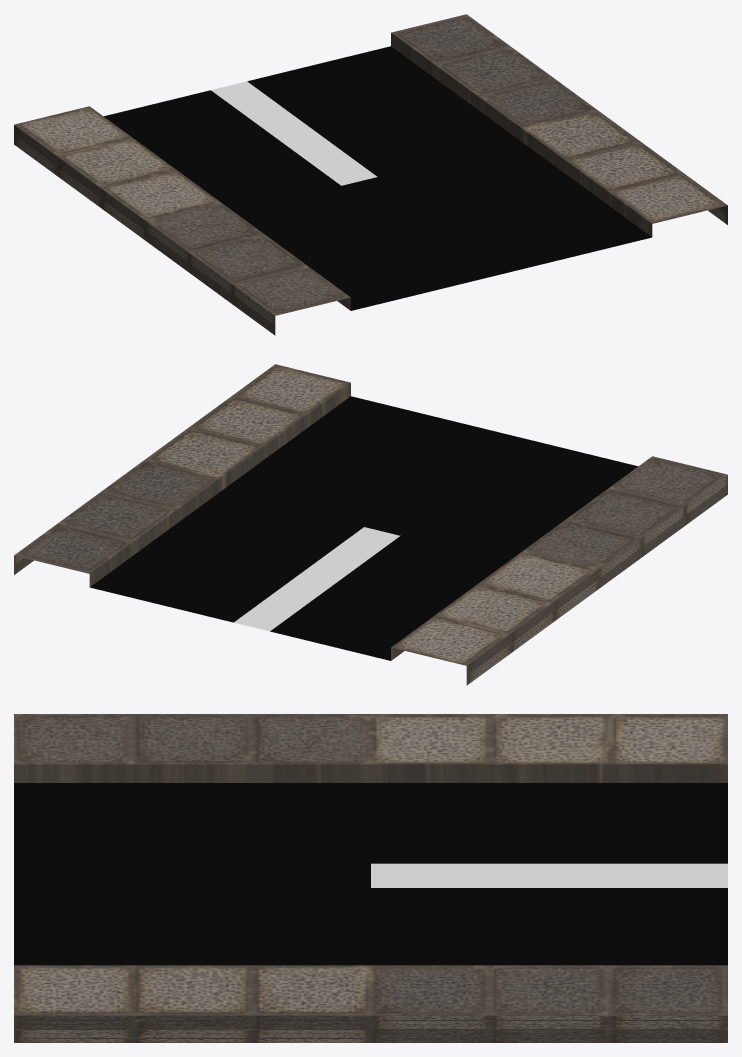
The model's file is Yol.fbx.
The picture shows the model from 3 angles, top to bottom: view 1: azimuth 30°, elevation 25°; view 2: azimuth 150°, elevation 25°; view 3: azimuth 270°, elevation 25°; orthographic projection. The views are drawn at different scales.
Visible parts, largest first — view 1: Cube.001; view 2: Cube.001; view 3: Cube.001.
Boxes of the visible parts, x1,y1,x2,y2 form: Cube.001: [14, 14, 727, 335]; Cube.001: [14, 364, 727, 685]; Cube.001: [14, 714, 727, 1042].
Size of what is drawn, in the model's own units: 200 by 8.39 by 200.
